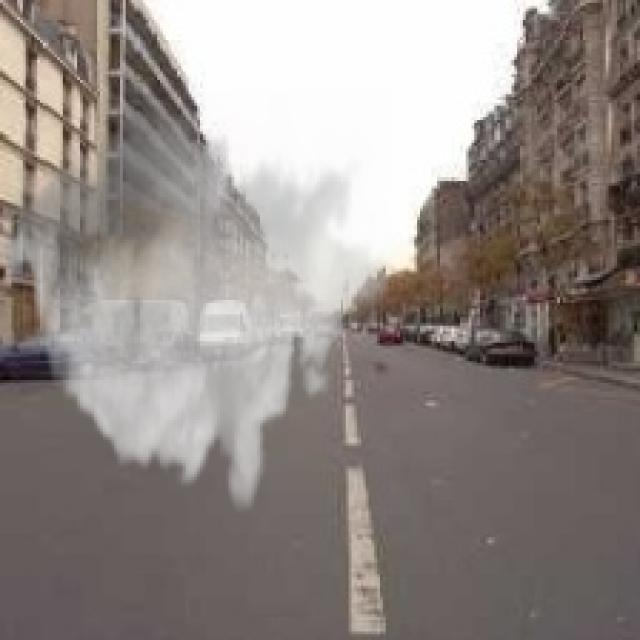Smoke: (2, 91, 392, 518)
